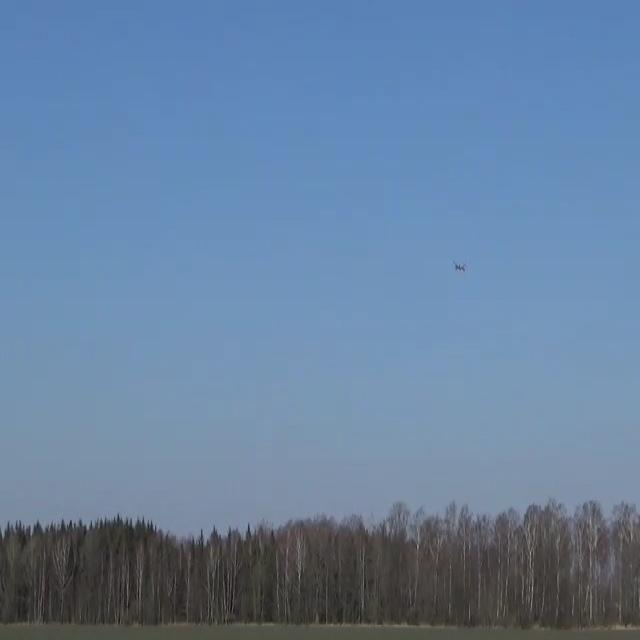drone: (453, 260, 465, 271)
